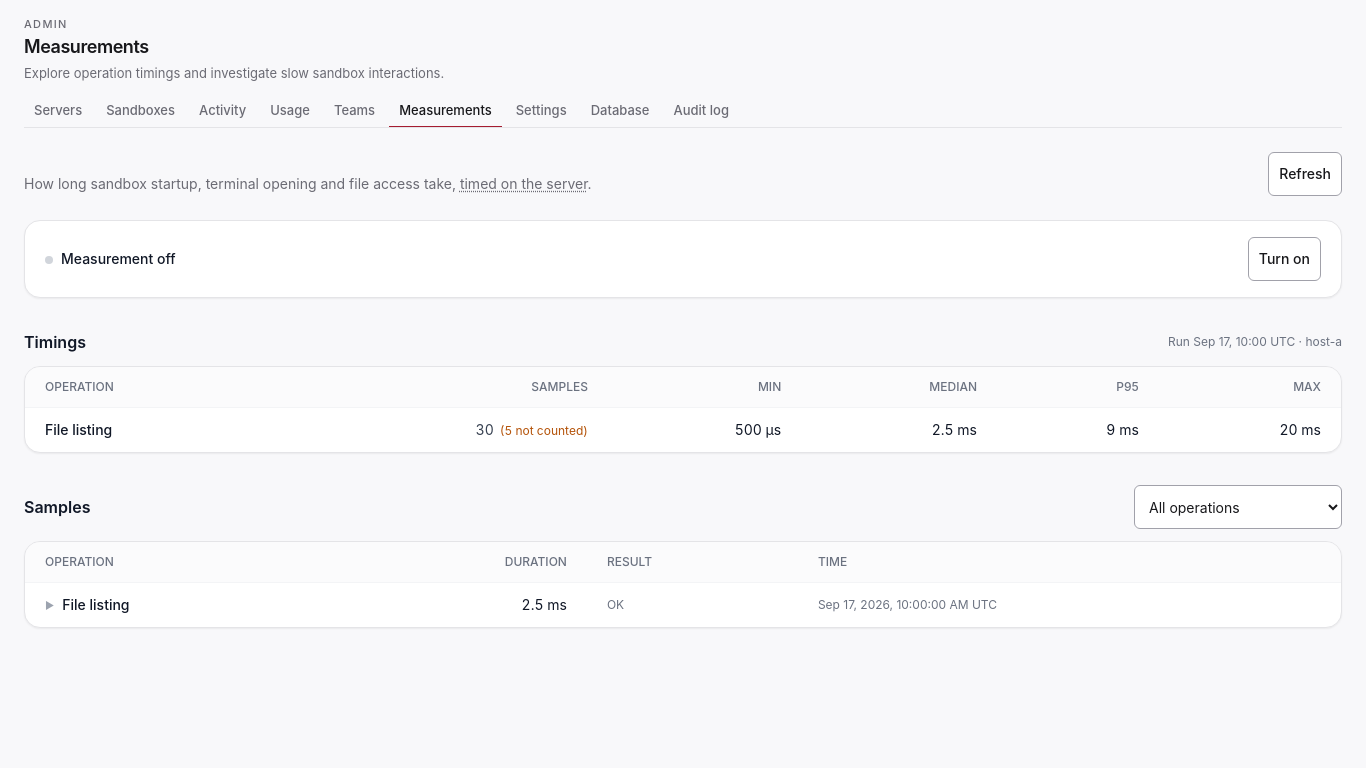
Test: admin measurements page › shows a failed refresh as an error and keeps the previous read
Step 1. Click the button "Refresh" → (1305, 174), box [1268, 152, 1342, 196]
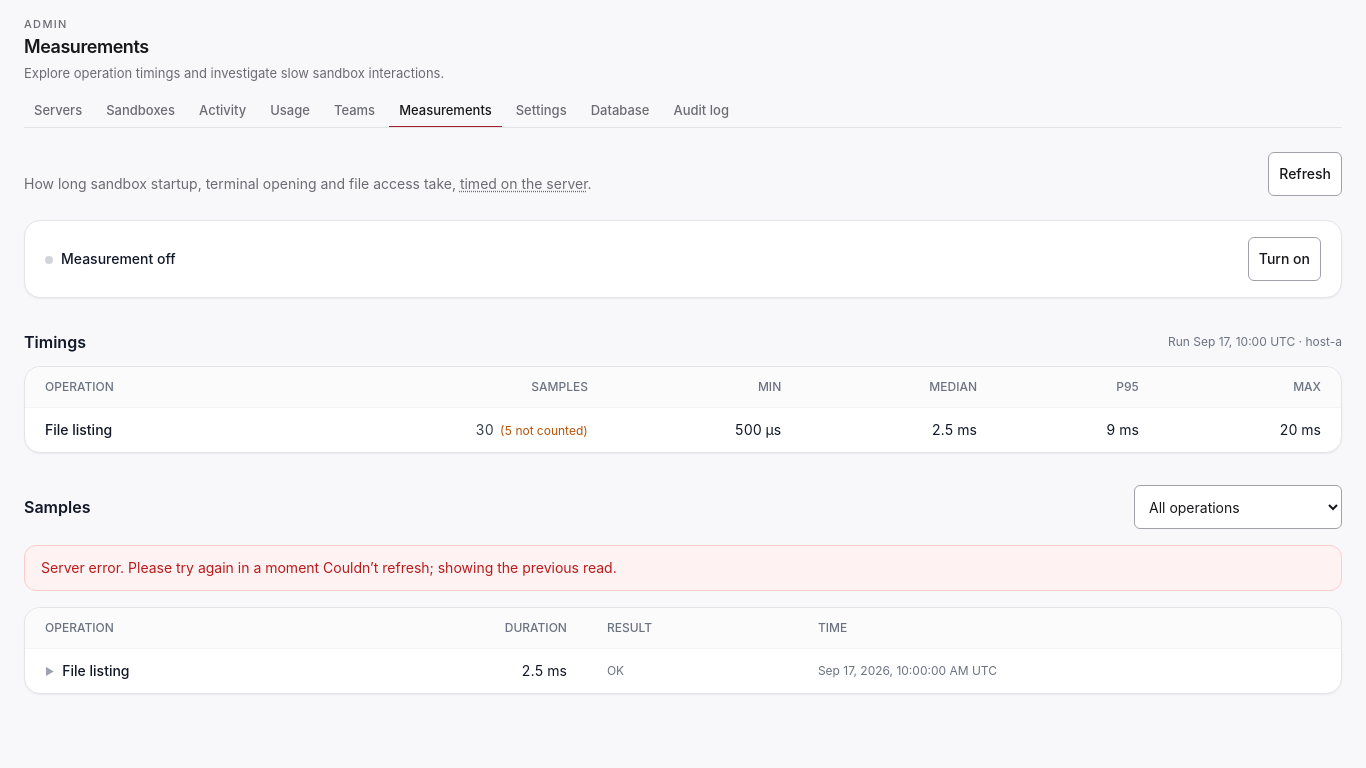
Expected: the button "▶ File listing" is shown, [45, 661, 130, 681]
Now the text "showing the previous read" is shown, box [319, 559, 617, 576]
